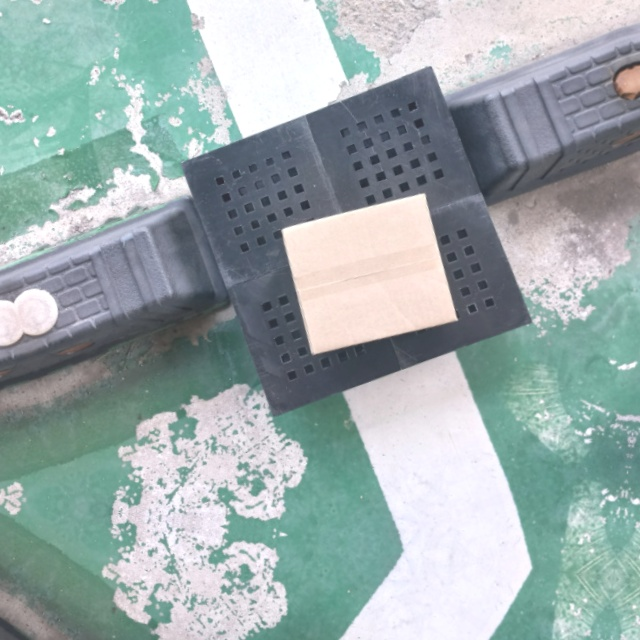box: (276, 190, 456, 360)
pallet: (172, 57, 540, 422)
